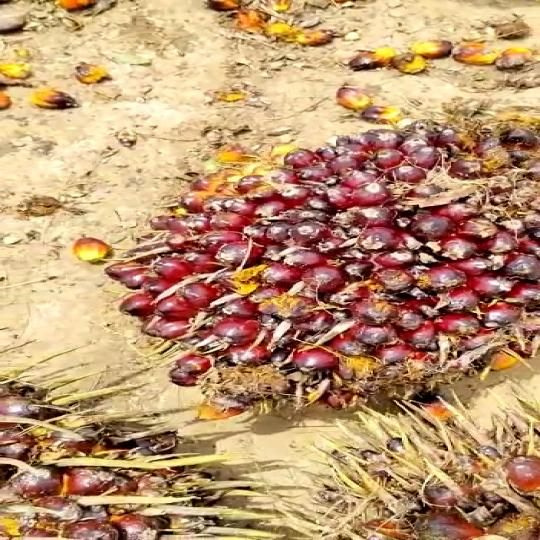kurang masak: (130, 122, 540, 396)
